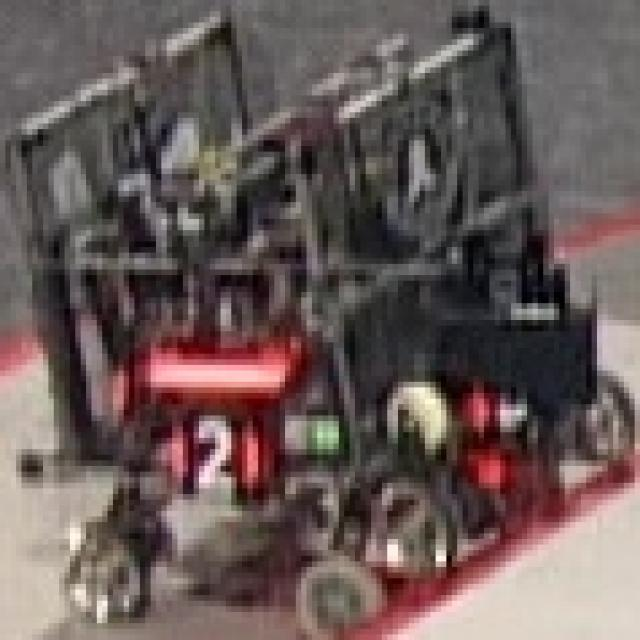R2: (167, 410, 258, 500)
